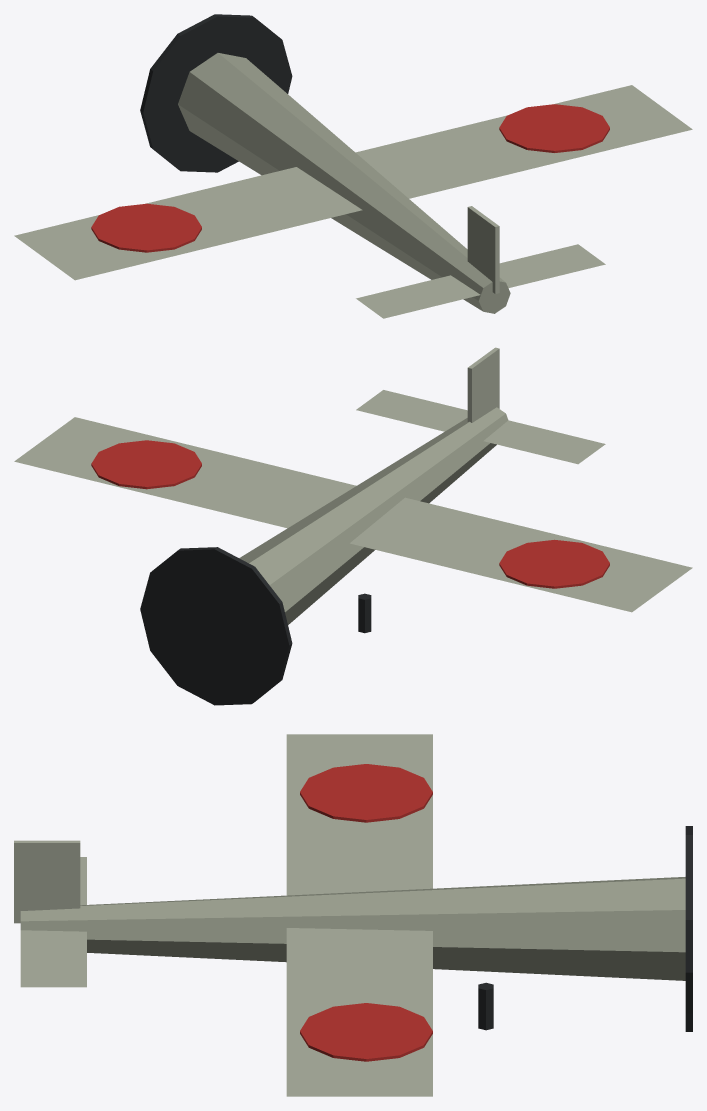
File: plane_jp_fighter.glb
3 renders of one model, top to bottom at view 1: azimuth 30°, elevation 25°; view 2: azimuth 150°, elevation 25°; view 3: azimuth 270°, elevation 25°, orthographic. The views are drawn at different scales.
Visible parts, largest first — view 1: Hull; view 2: Hull; view 3: Hull.
Part boxes in pixels (box(x1,y1,x2,y2)): Hull: box(14, 14, 692, 318); Hull: box(14, 347, 692, 705); Hull: box(14, 734, 692, 1096).
Size of the model in its own units: 11.6 by 2.8 by 9.19.
